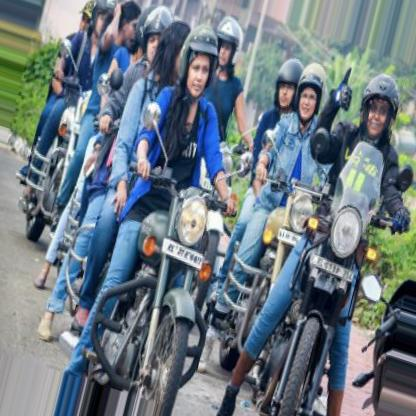with helmet: (176, 24, 218, 102), (358, 74, 399, 140), (295, 61, 327, 123), (210, 15, 244, 69), (272, 59, 304, 113)
